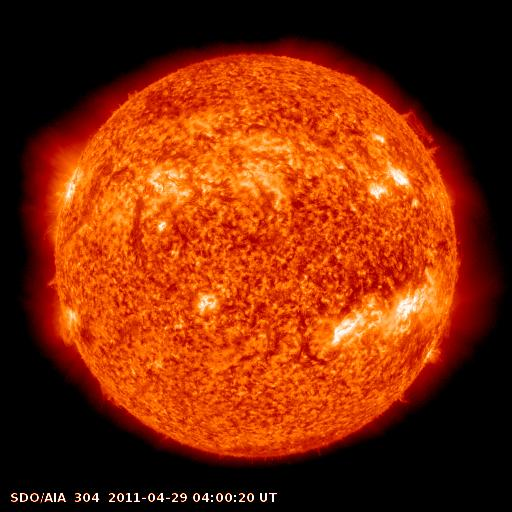prominence: (394, 101, 443, 162), (92, 374, 132, 416), (431, 309, 465, 345), (37, 264, 70, 300), (389, 384, 419, 417)
